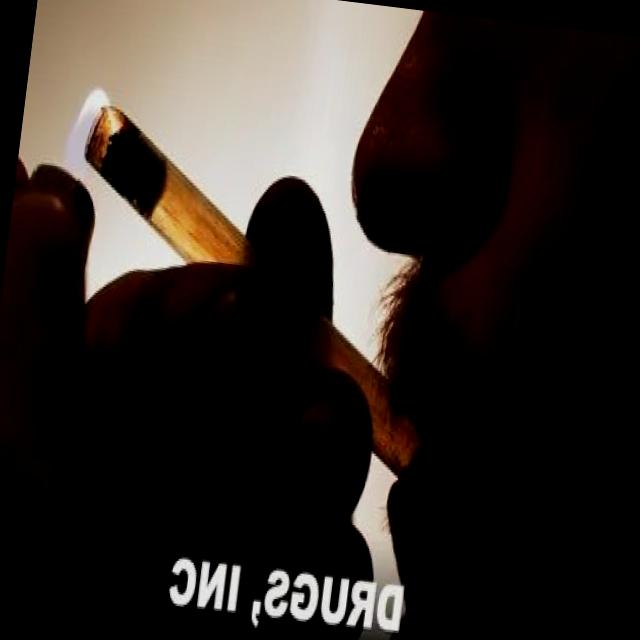cigarette: (42, 86, 456, 482)
